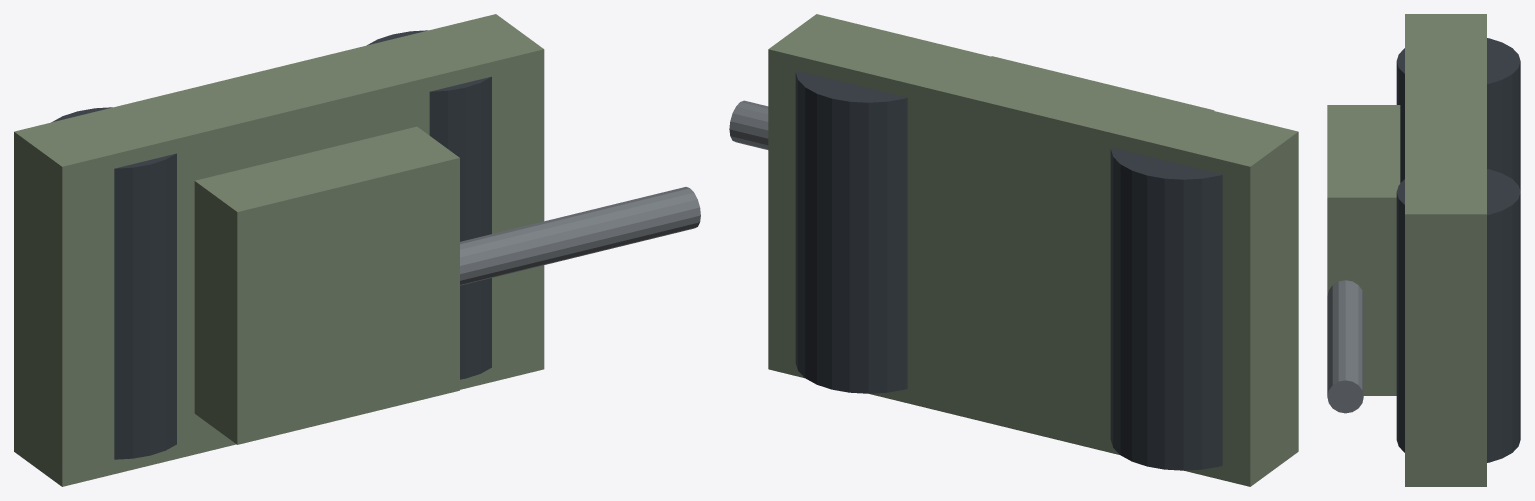
The model's file is tank.glb.
3 views of the same model, side by side, from view 1: azimuth 30°, elevation 25°; view 2: azimuth 150°, elevation 25°; view 3: azimuth 270°, elevation 25° (orthographic). The views are drawn at different scales.
Visible parts, largest first — view 1: g0_chassis, g1_turret, g3_track, g2_barrel, g4_track; view 2: g0_chassis, g4_track, g3_track, g2_barrel; view 3: g0_chassis, g1_turret, g4_track, g3_track, g2_barrel.
Boxes of the visible parts, x1,y1,x2,y2 form: g0_chassis: (14,14,544,486); g1_turret: (194,126,459,444); g3_track: (51,107,176,459); g2_barrel: (460,187,700,285); g4_track: (367,30,491,379); g0_chassis: (768,14,1298,486); g4_track: (795,70,907,393); g3_track: (1110,147,1222,470); g2_barrel: (729,100,768,149); g0_chassis: (1405,14,1486,486); g1_turret: (1327,105,1400,395); g4_track: (1396,169,1520,462); g3_track: (1396,38,1520,191); g2_barrel: (1327,280,1363,413).
Bounding box in the file's own units: 3.2 × 1.65 × 1.06.
